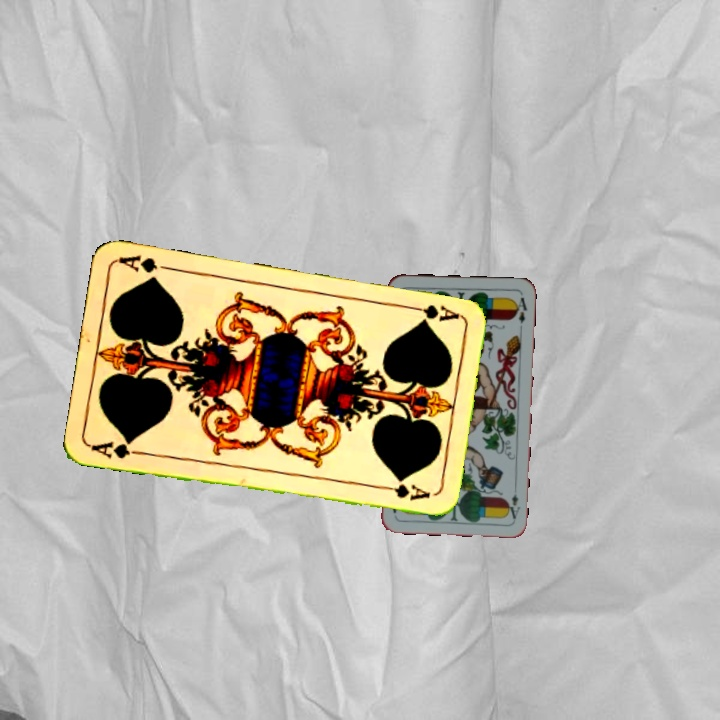EA: (504, 481, 523, 522)
GA: (87, 436, 147, 461), (403, 300, 462, 324)
